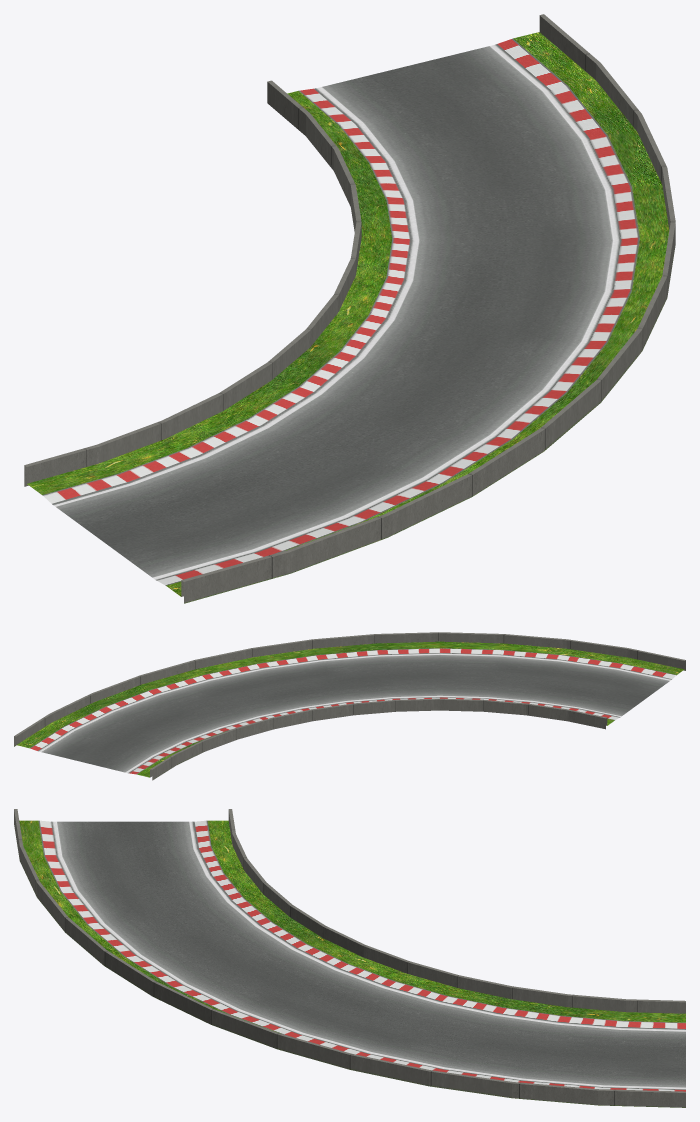
The model's file is turn_mid.fbx.
3 views of the same model, one above another, from view 1: azimuth 30°, elevation 25°; view 2: azimuth 150°, elevation 25°; view 3: azimuth 270°, elevation 25° (orthographic). The views are drawn at different scales.
Parts seen in each view (by area): view 1: 9; view 2: 9; view 3: 9.
Boxes of the visible parts, x1=… form: 9: x1=24, y1=14, x2=675, y2=603; 9: x1=14, y1=632, x2=685, y2=780; 9: x1=14, y1=809, x2=685, y2=1107.
Bounding box in the file's own units: 546 × 13.34 × 546.
